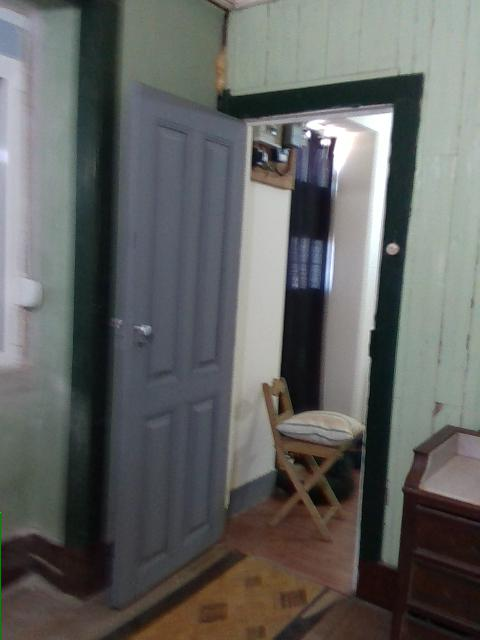open_door: (202, 70, 425, 570)
